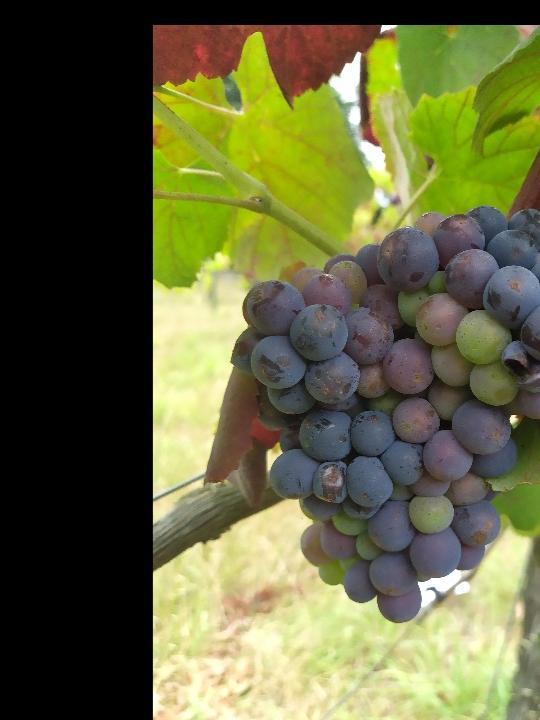grape: (228, 207, 540, 628)
